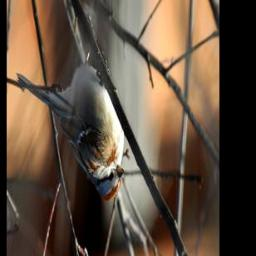Sparrow: (14, 52, 126, 204)
